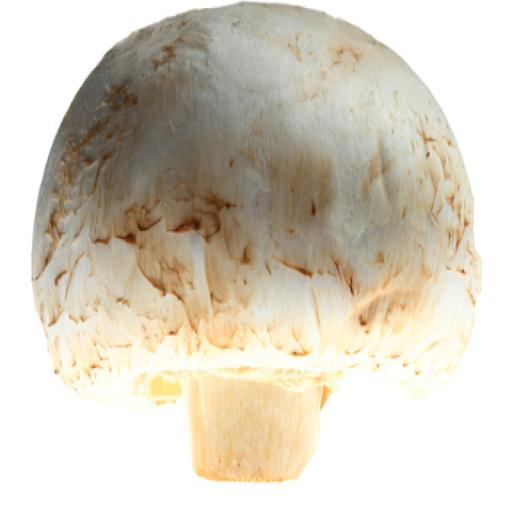Button Mushroom: (32, 0, 485, 487)
